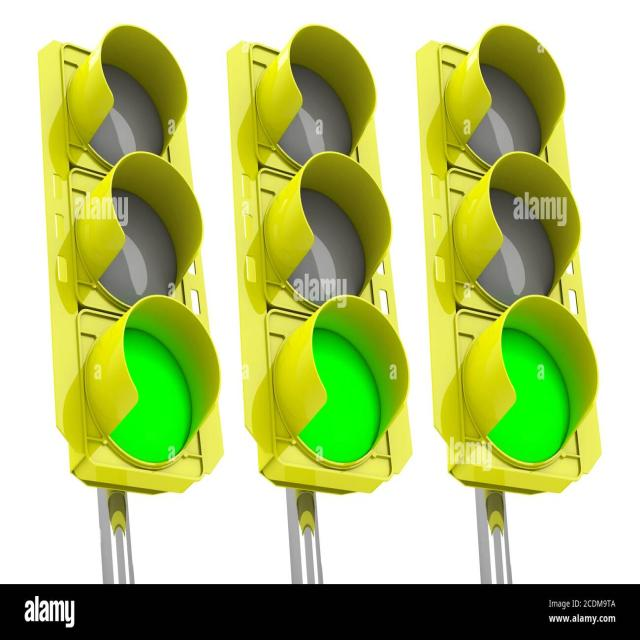green: (456, 323, 583, 467), (271, 325, 401, 464), (90, 312, 204, 463)
